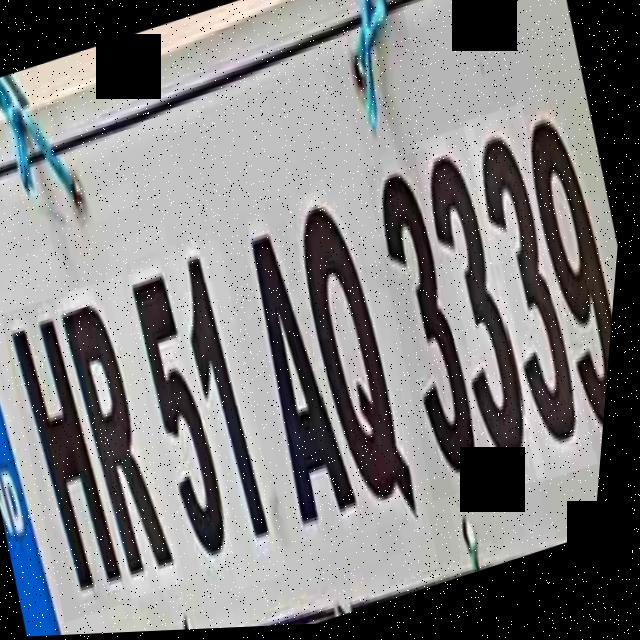1: (174, 244, 298, 576)
3: (368, 157, 503, 502), (416, 139, 544, 493), (467, 126, 594, 481)
5: (127, 264, 253, 574)
9: (515, 103, 619, 455)
A: (240, 217, 371, 551)
H: (7, 298, 141, 617)
Q: (292, 187, 436, 533)
R: (59, 289, 192, 599)
